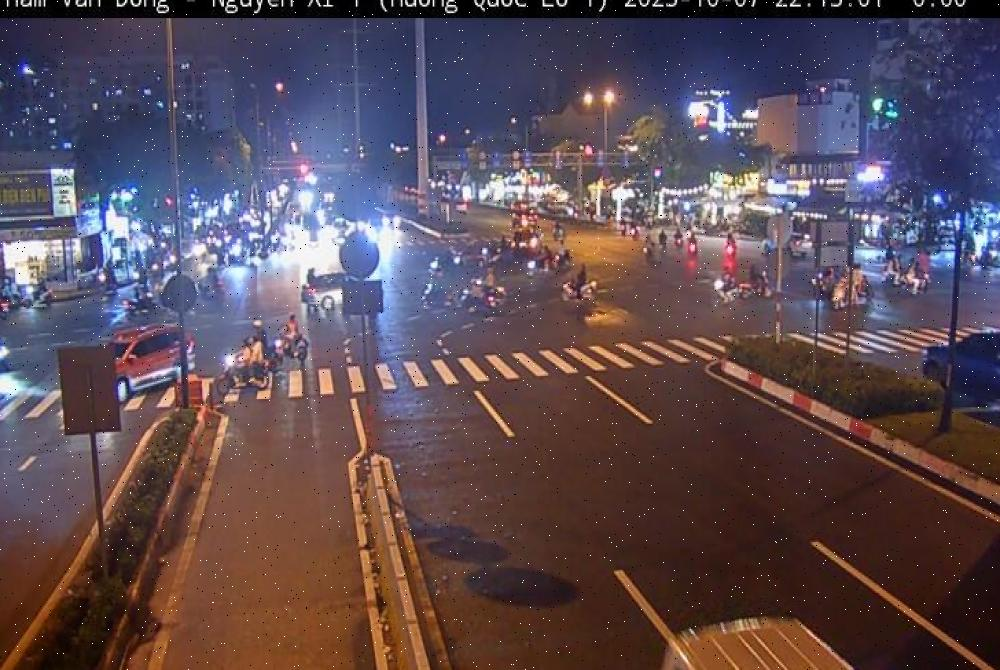car: (629, 612, 883, 670), (919, 310, 1000, 422), (96, 322, 208, 402)
